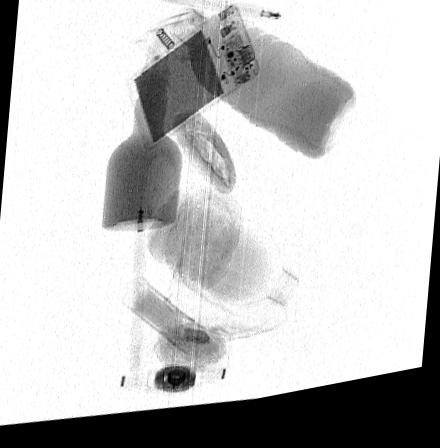Powerbank: (125, 14, 258, 154)
